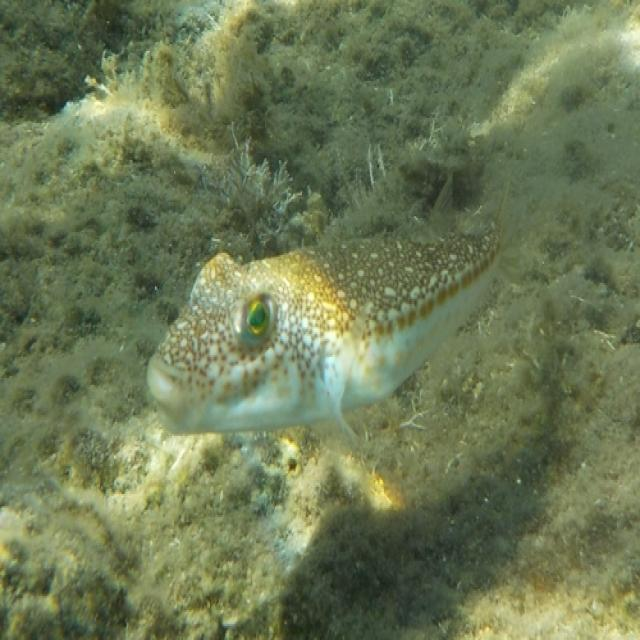Balik: (148, 226, 501, 432)
